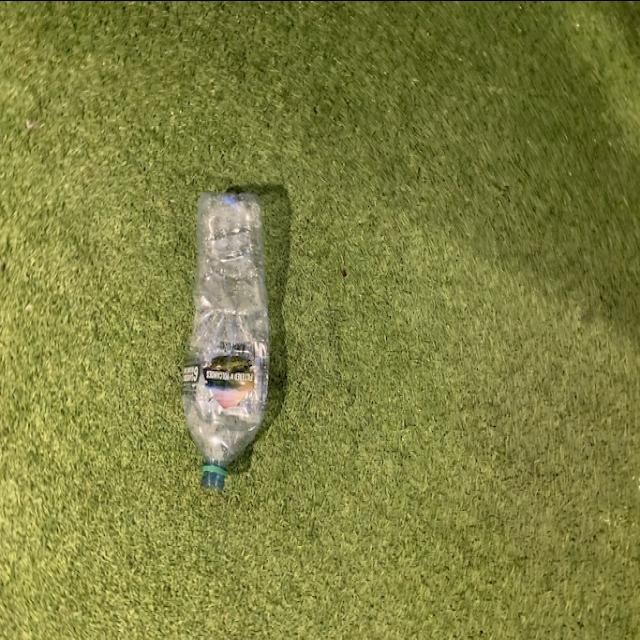litter: (180, 184, 274, 494)
